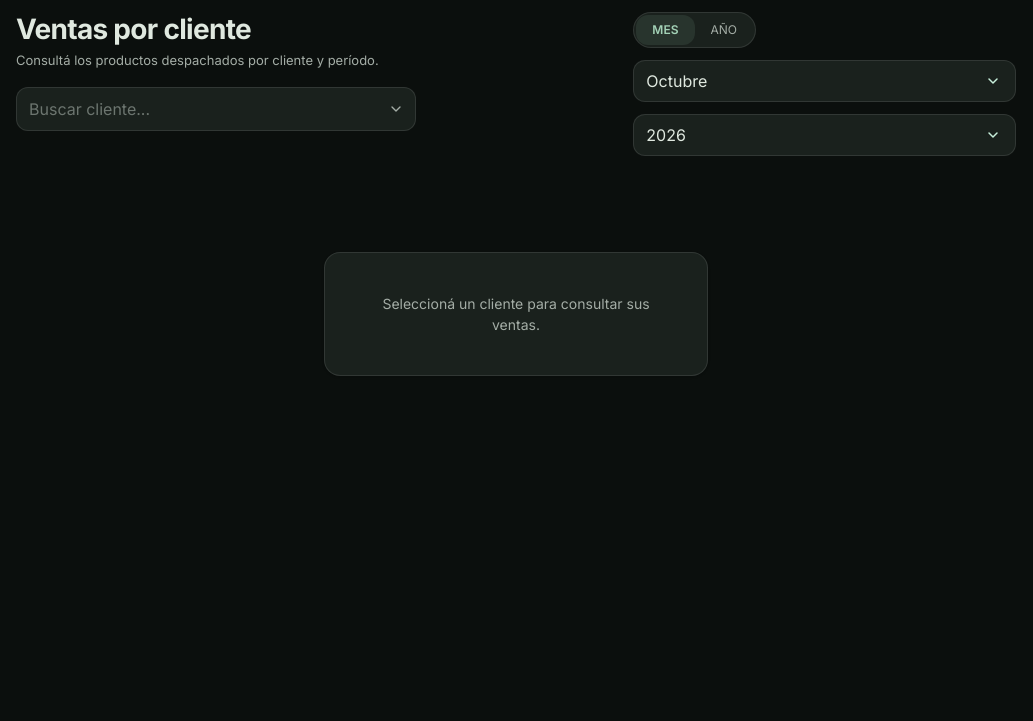
VentasPage › never renders money or commercial metrics absent from the backend contract
Step 1. Click the dropdown with placeholder "Buscar cliente..." → (216, 108), box [16,86,416,130]
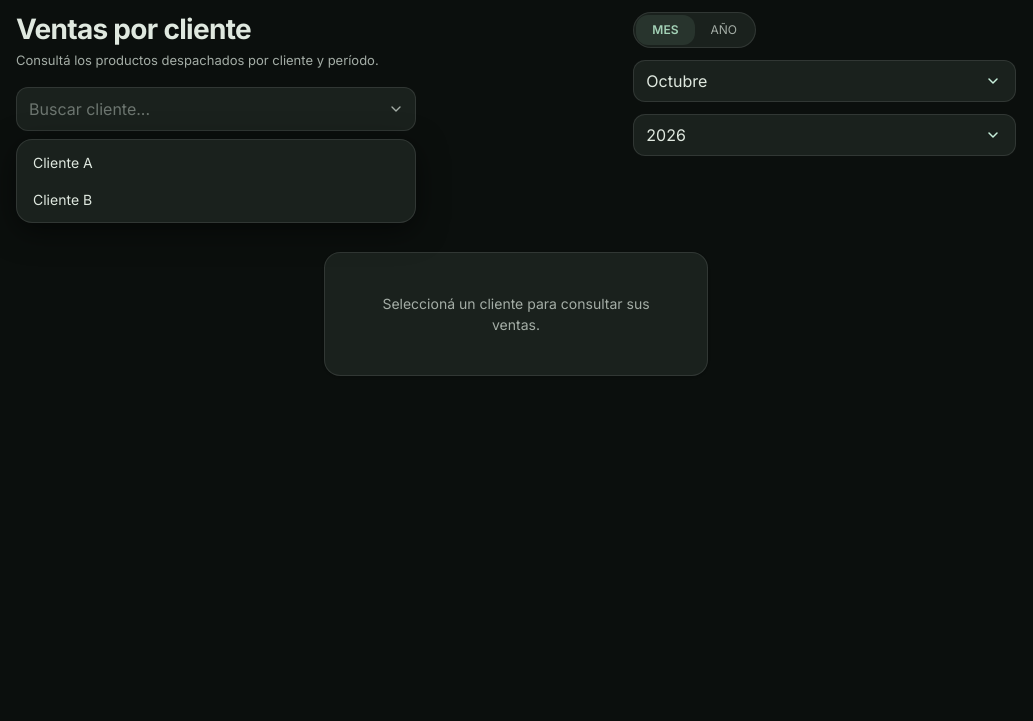
Step 2. Click the option "Cliente A" → (63, 162), box [21,144,411,180]
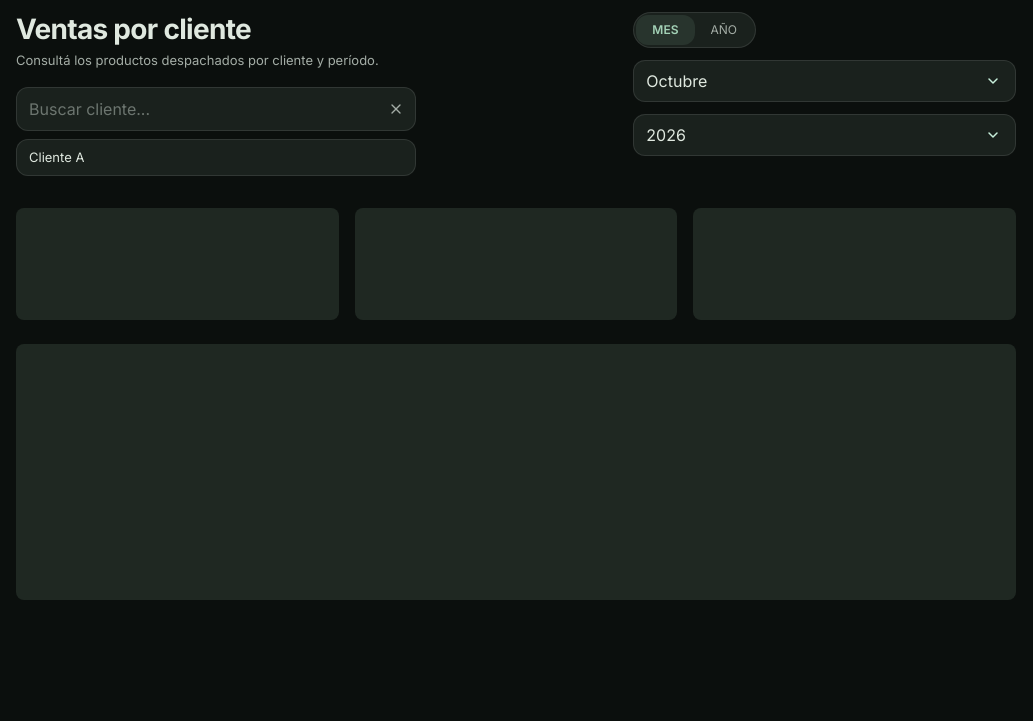
Step 3. Click the button "AÑO" → (724, 30), box [694,15,753,45]
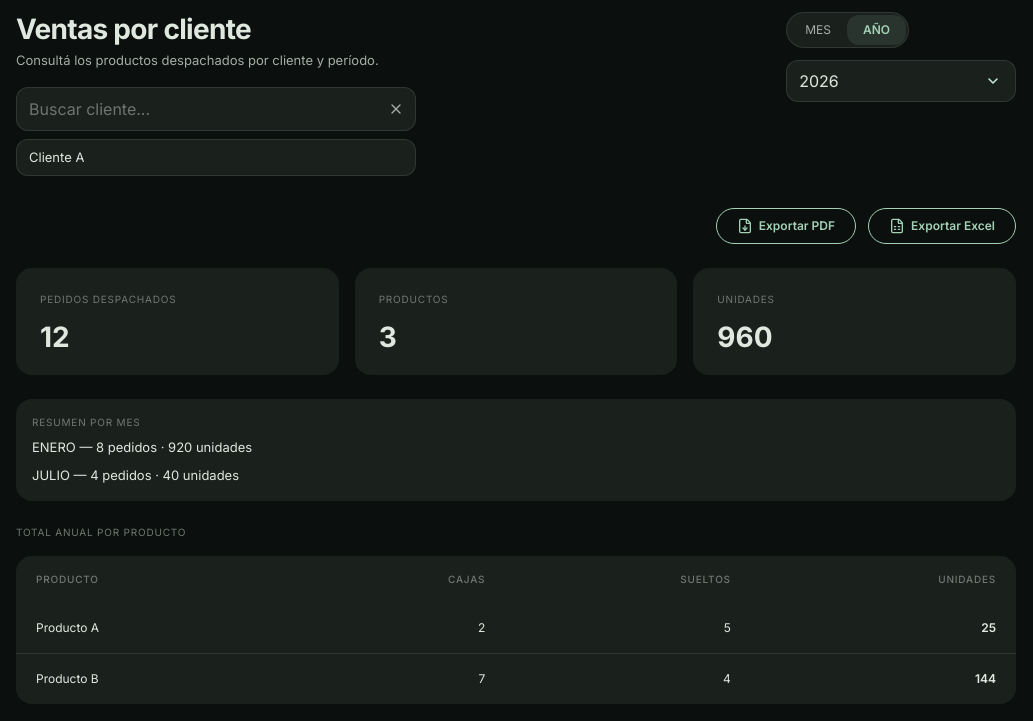
expect the heading "TOTAL ANUAL POR PRODUCTO" is shown: met, box [16,526,186,538]
